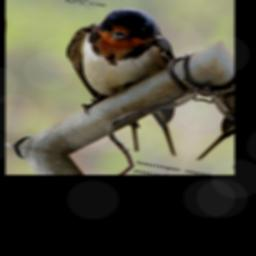Swallow: (42, 0, 216, 158)
